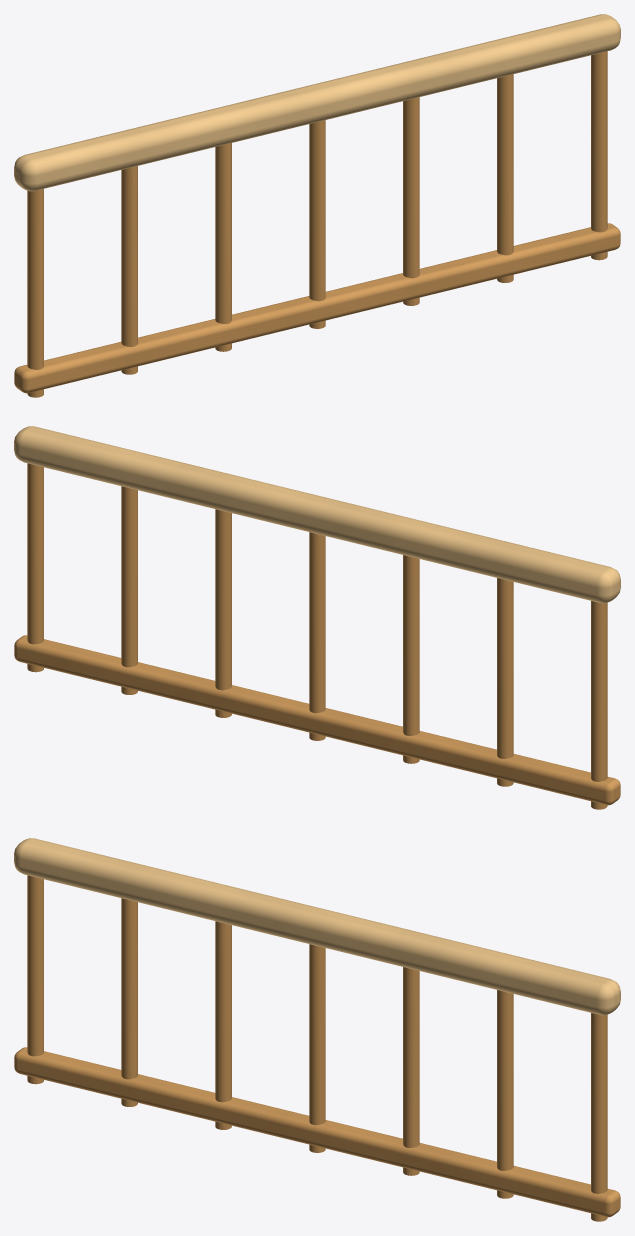
The model's file is Railing_2m.glb.
3 renders of one model, top to bottom at view 1: azimuth 30°, elevation 25°; view 2: azimuth 150°, elevation 25°; view 3: azimuth 330°, elevation 25°, orthographic.
Parts seen in each view (by area): view 1: Railing_2m; view 2: Railing_2m; view 3: Railing_2m.
Boxes of the visible parts, <box> form: Railing_2m: <box>14,14,620,397</box>; Railing_2m: <box>14,426,620,809</box>; Railing_2m: <box>14,838,620,1221</box>.
Bounding box in the file's own units: 2 × 0.76 × 0.1.
Materials: 2 (2 with a texture image).
